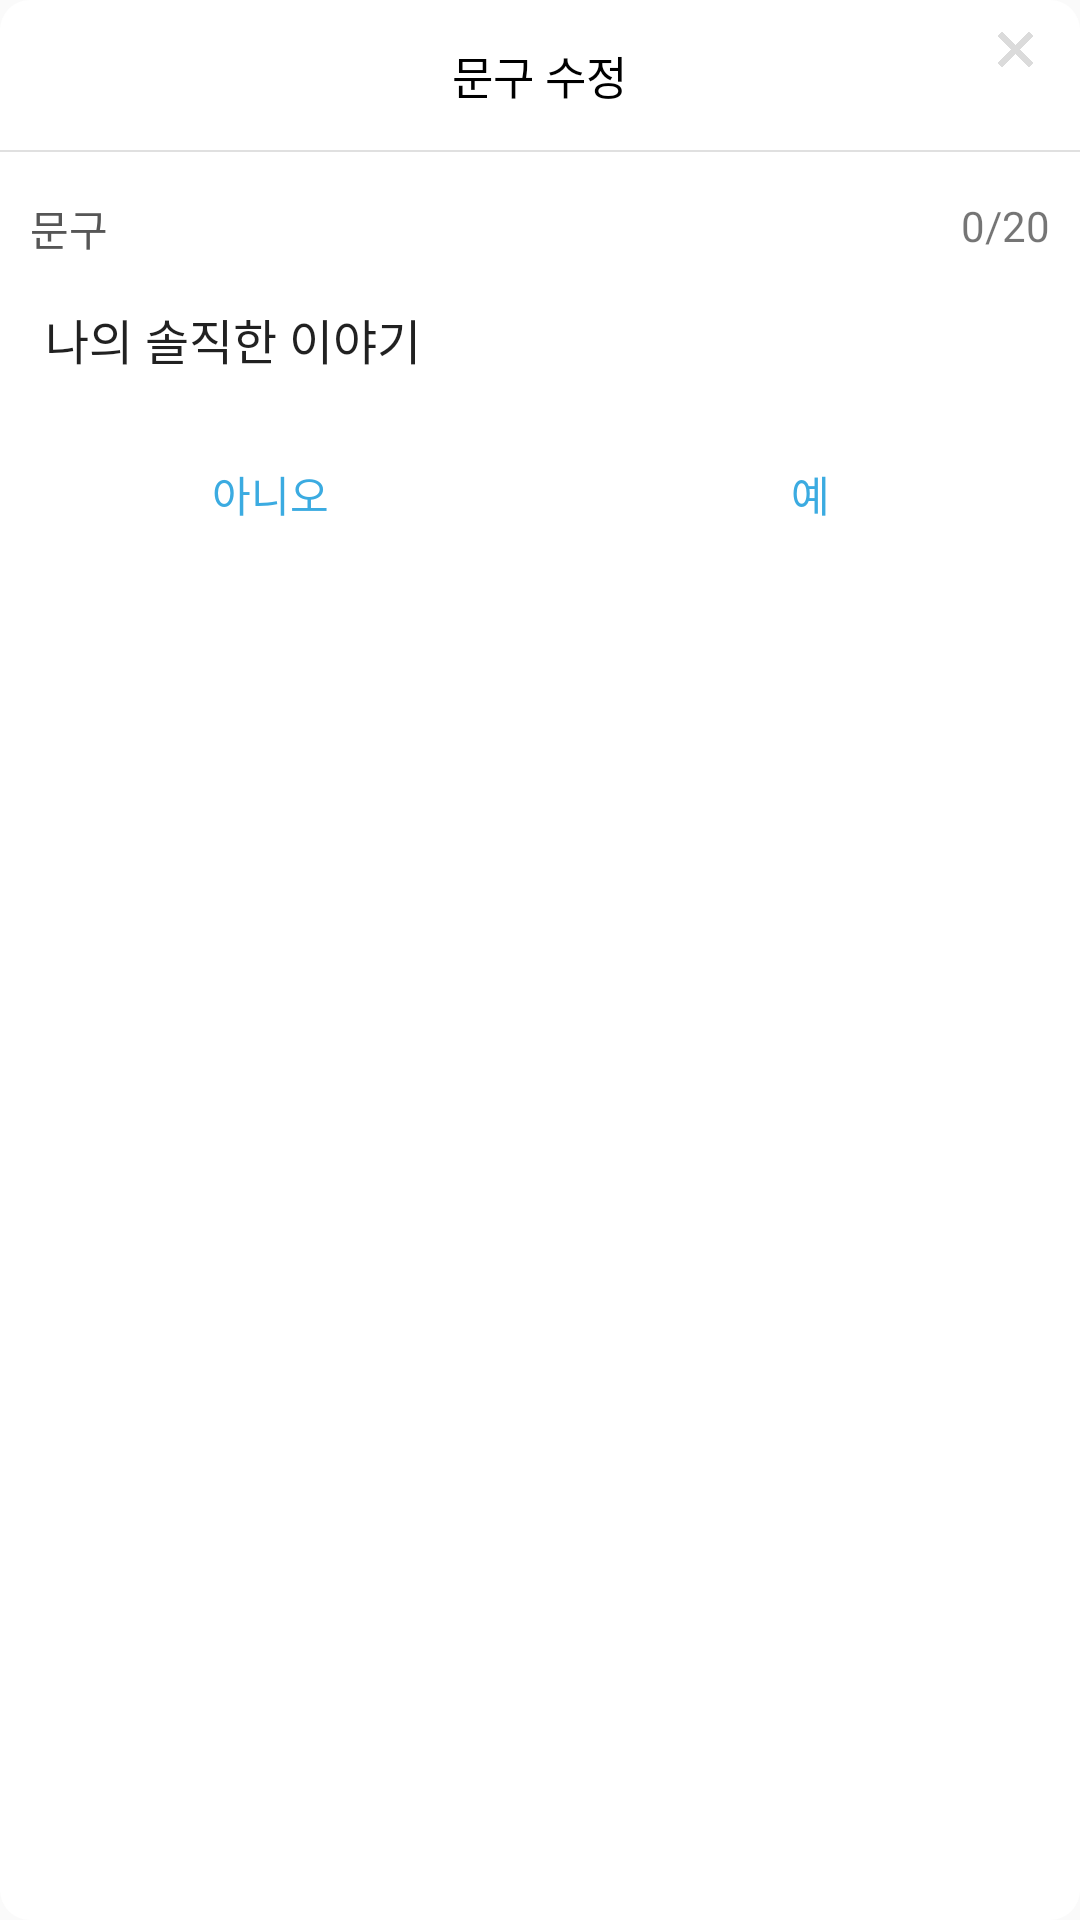

Screen size 1080 × 1920. Icon name, then its center in pixels as (x=x, y=y):
close: (x=1015, y=49)
